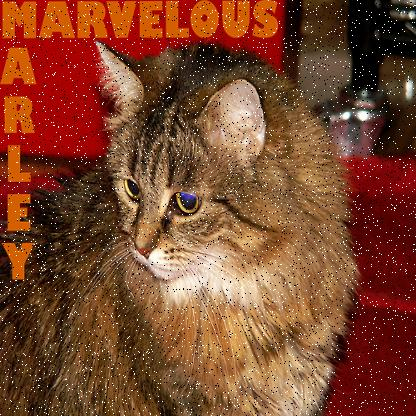cat: (75, 38, 369, 416)
